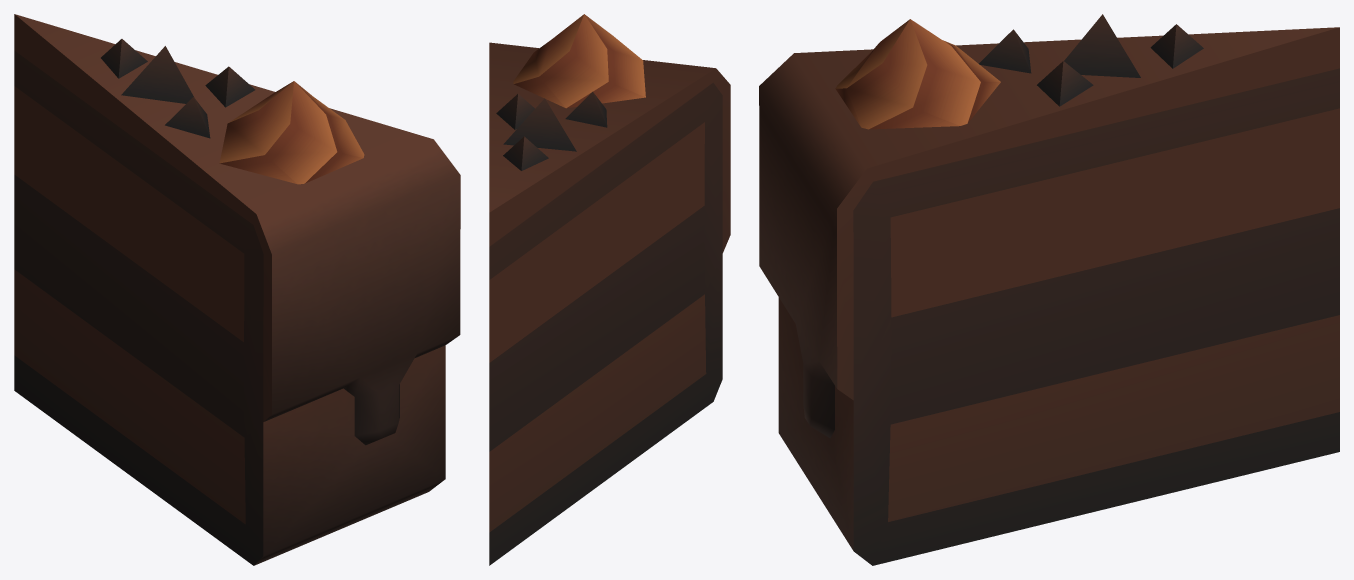
The model's file is m_ChocolateCake02_Slice03.fbx.
3 renders of one model, left to right at view 1: azimuth 30°, elevation 25°; view 2: azimuth 150°, elevation 25°; view 3: azimuth 270°, elevation 25°, orthographic. The views are drawn at different scales.
Parts seen in each view (by area): view 1: m_ChocolateCake02_Slice03; view 2: m_ChocolateCake02_Slice03; view 3: m_ChocolateCake02_Slice03.
Boxes of the visible parts, x1,y1,x2,y2 form: m_ChocolateCake02_Slice03: (14,14,460,565); m_ChocolateCake02_Slice03: (489,14,730,565); m_ChocolateCake02_Slice03: (759,14,1339,565).
Bounding box in the file's own units: 7.24 × 13.27 × 14.48.
